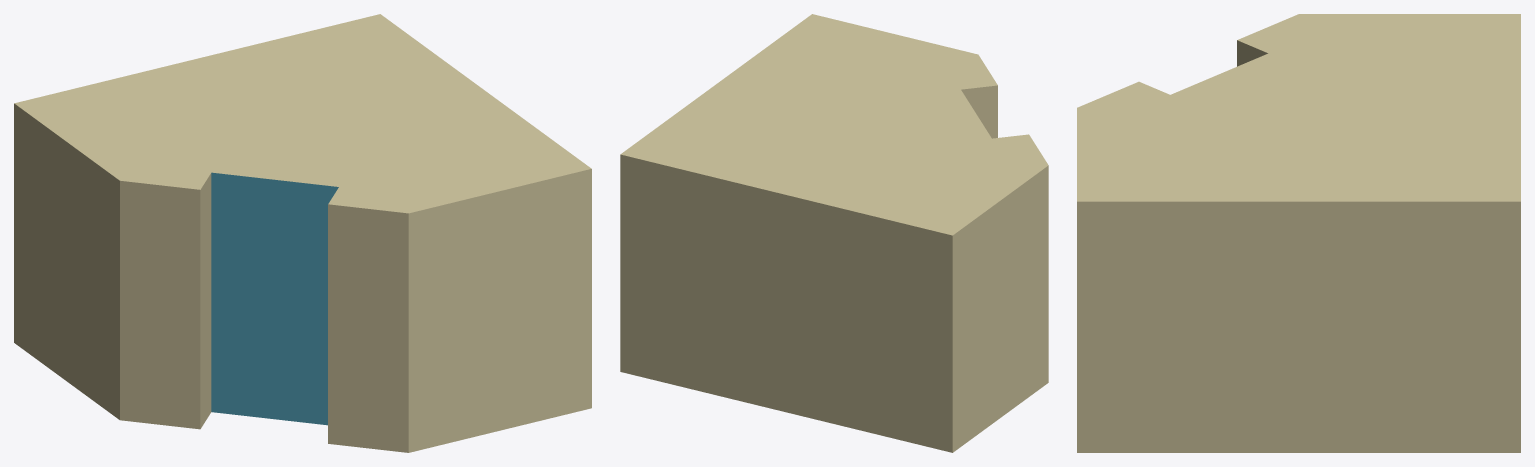
3 views of the same model, side by side, from view 1: azimuth 30°, elevation 25°; view 2: azimuth 150°, elevation 25°; view 3: azimuth 270°, elevation 25° (orthographic). The views are drawn at different scales.
Parts seen in each view (by area): view 1: G-__555996_G-__555996_Brick, G-__555996_G-__555996_Glass; view 2: G-__555996_G-__555996_Brick; view 3: G-__555996_G-__555996_Brick.
Part boxes in pixels (x1,y1,x2,y2): G-__555996_G-__555996_Brick: (14, 14, 591, 452); G-__555996_G-__555996_Glass: (211, 172, 338, 425); G-__555996_G-__555996_Brick: (620, 14, 1048, 452); G-__555996_G-__555996_Brick: (1077, 14, 1520, 452).
Size of the model in its own units: 1 by 0.625 by 1.
